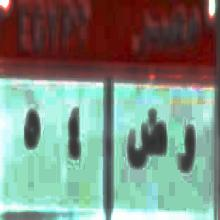4: (66, 105, 82, 165)
5: (22, 100, 42, 164)
daad: (127, 105, 168, 182)
waw: (177, 117, 197, 178)
